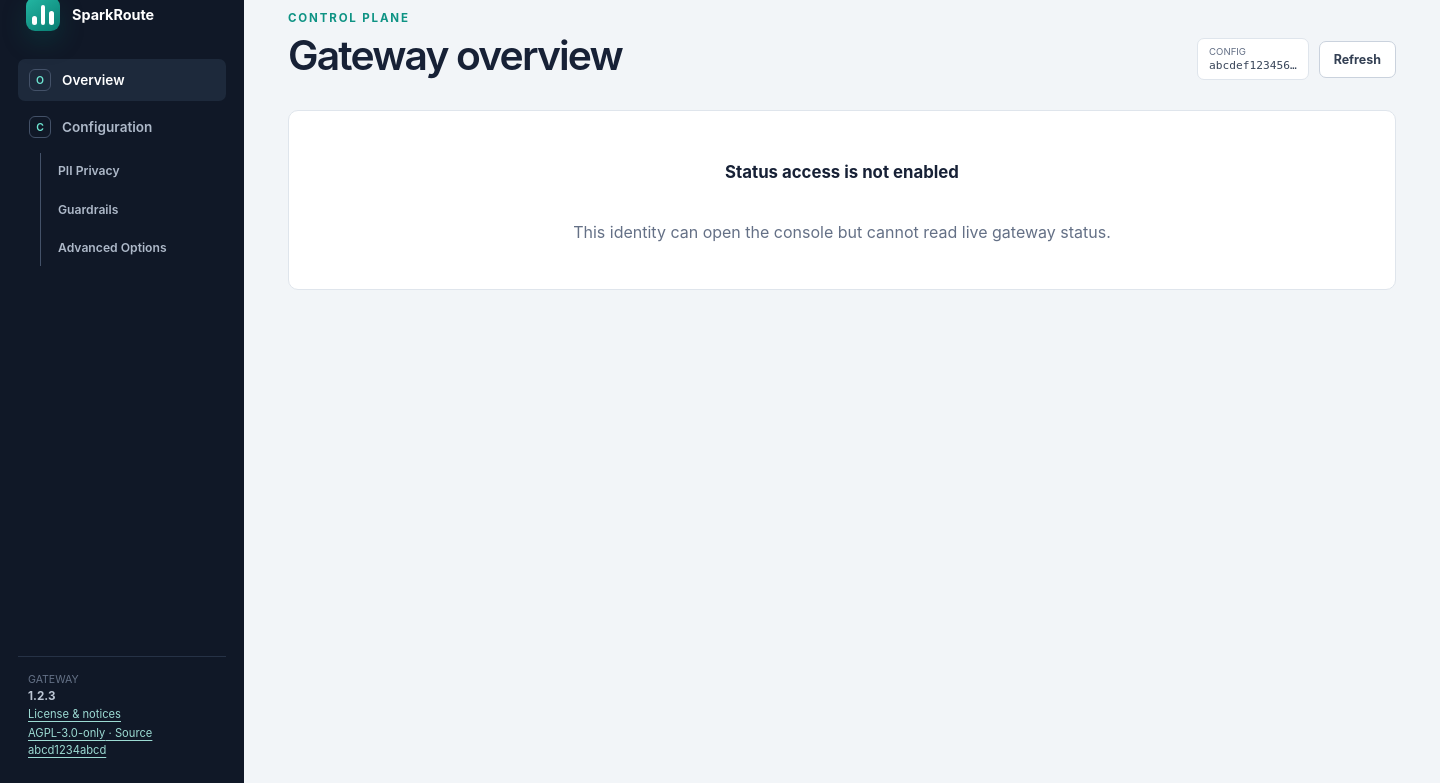
Test case: AdminApp › validates an standalone configuration draft without loading active secrets
This screenshot has width=1440, height=783.
Click the link "C Configuration" at x=91, y=127, box x1=29 y1=116 x2=152 y2=138
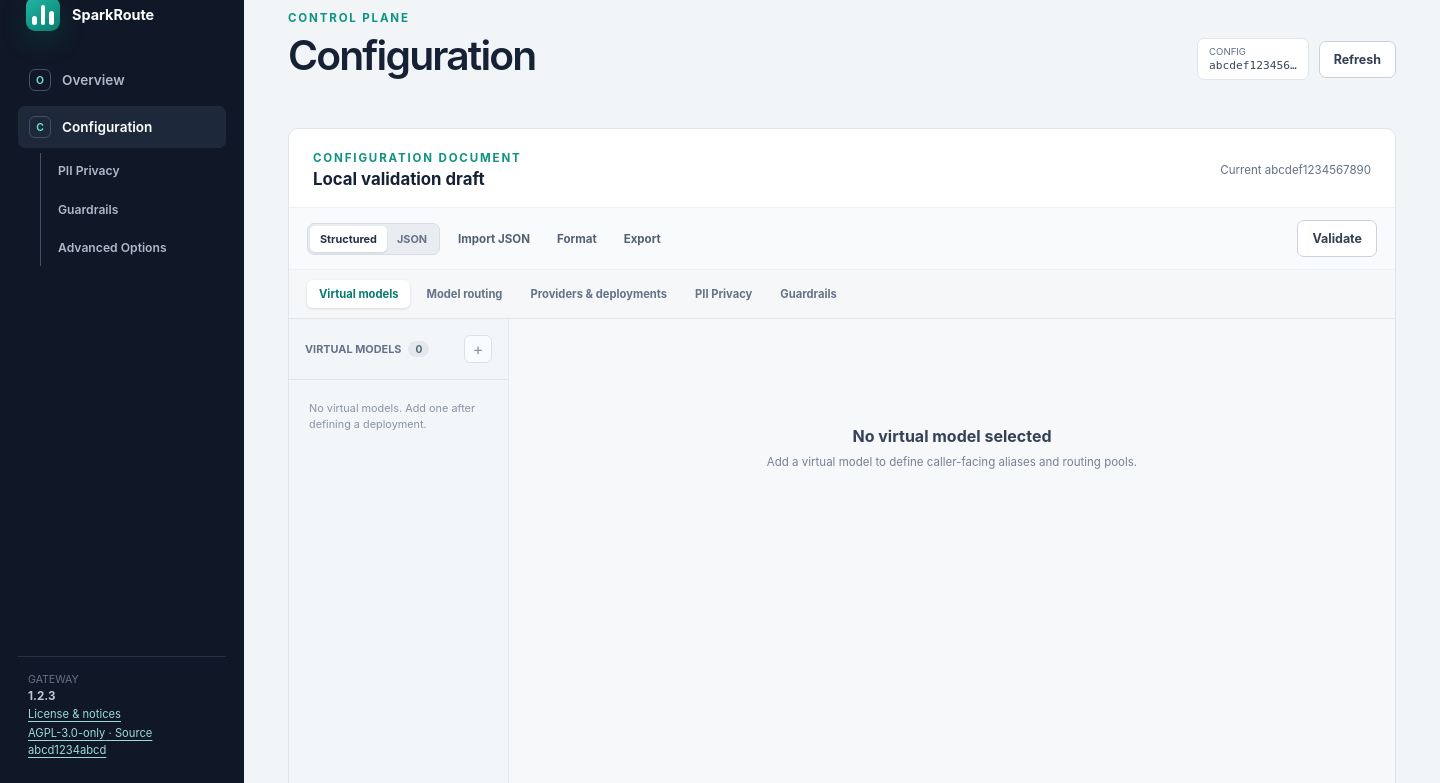
Result: the heading "Local validation draft" is shown at x1=313 y1=169 x2=485 y2=189
Click the button "Validate" at x=1337, y=238, box x1=1298 y1=220 x2=1377 y2=257
(page scrolled)
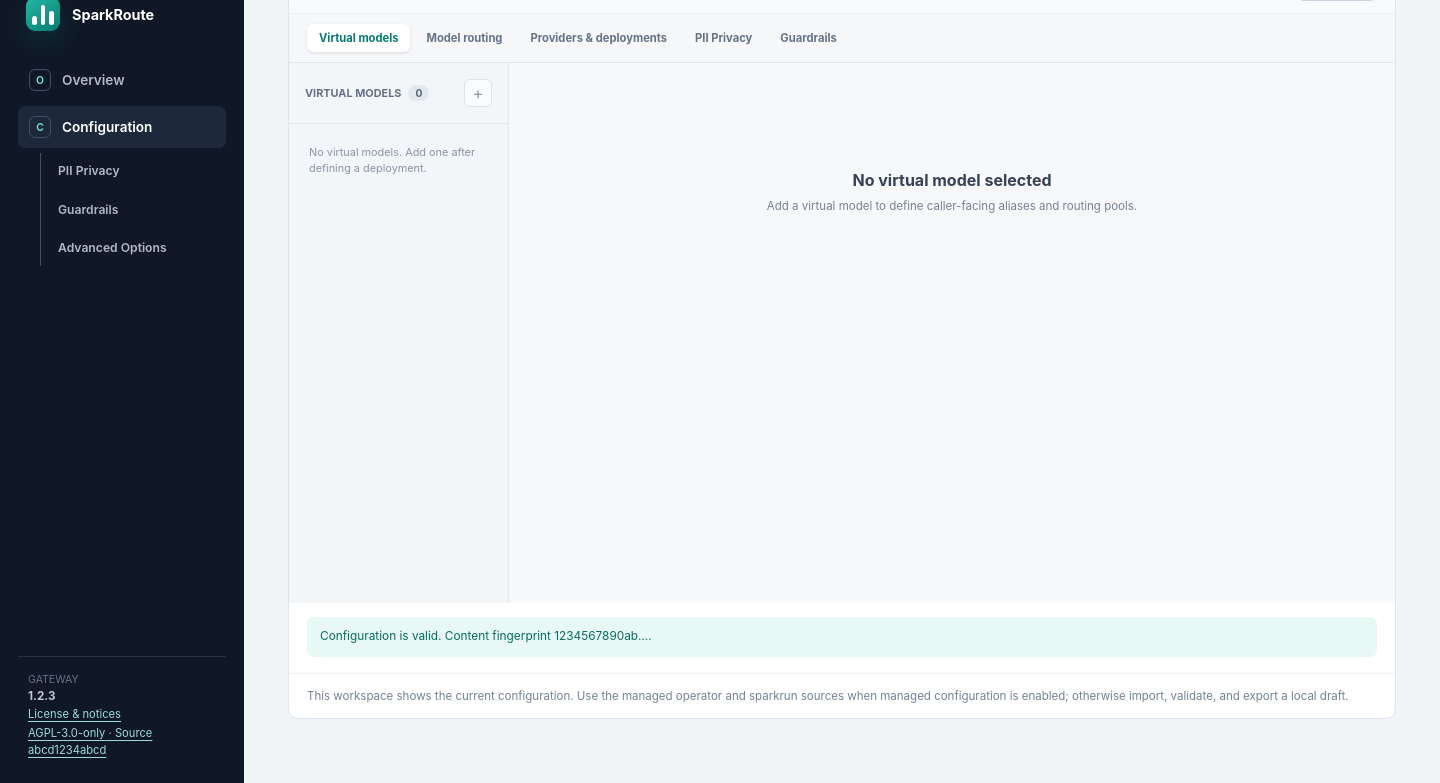
Result: the text "Configuration is valid. Content fingerprint 1234567890ab…." is shown at x1=307 y1=617 x2=1377 y2=657
